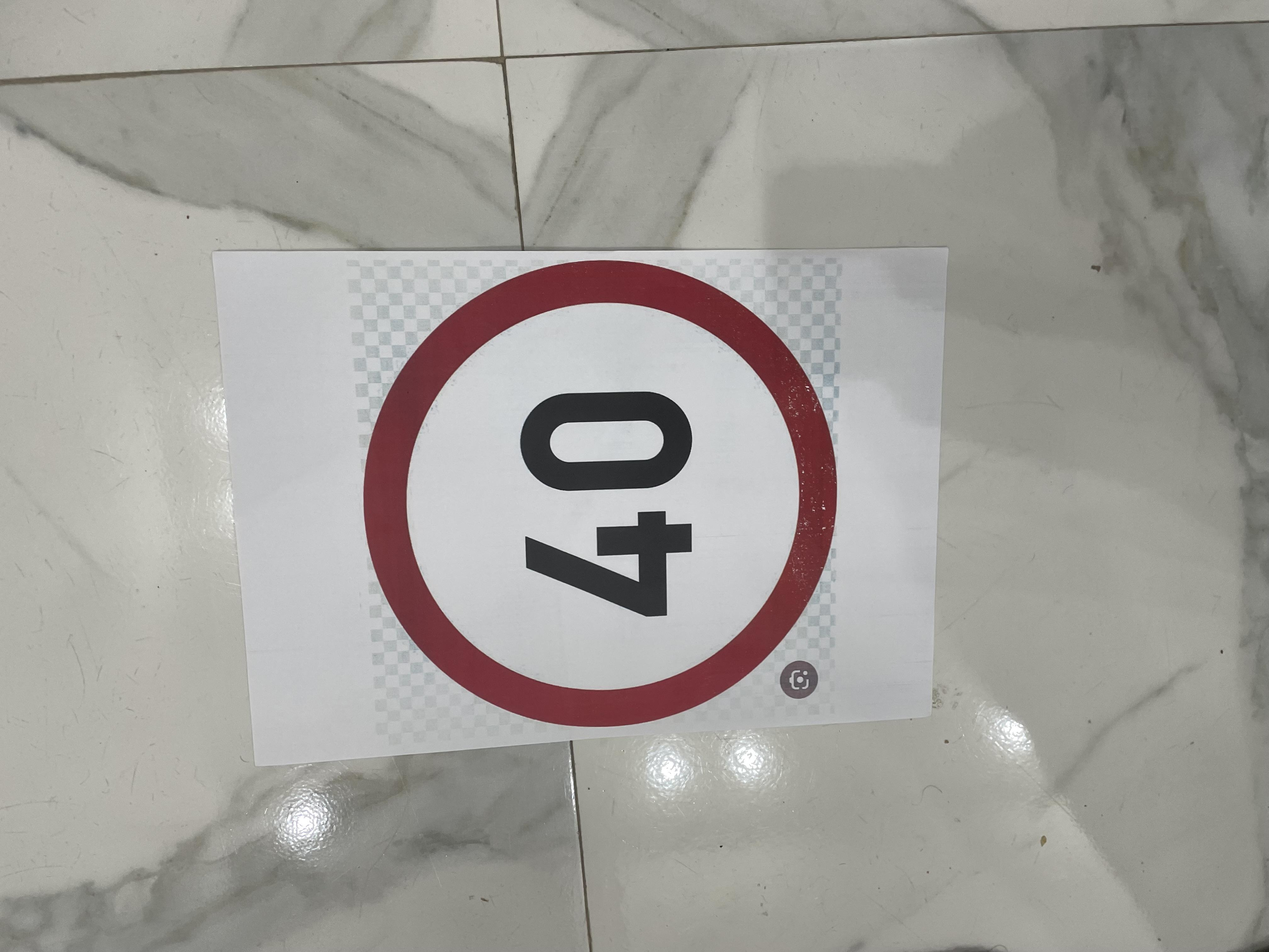40-Speed: (295, 260, 929, 632)
